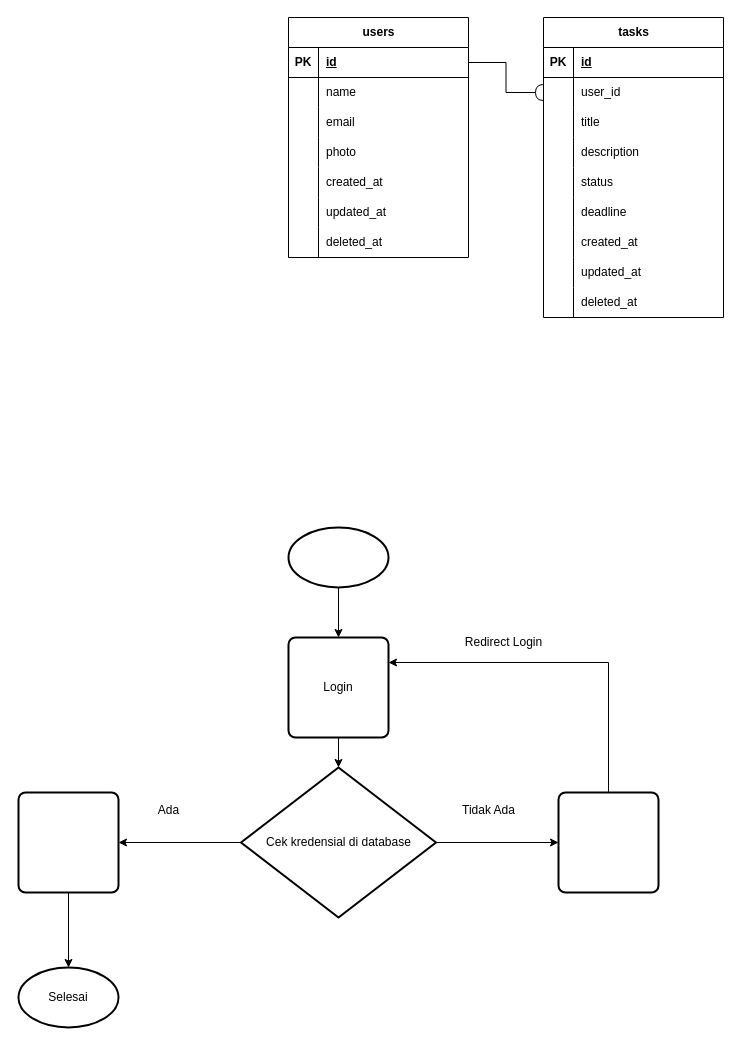
Some shapes in this 741 by 1046 pixel diagram are drawn without their labels. The box of each missing label's shape, as (x1, y1, x2, y2) in pixels:
Mulai: (287, 526, 389, 588)
Pembuatan Token JWT: (17, 791, 119, 893)
Register: (557, 791, 659, 893)
